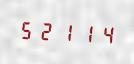five: (18, 17, 36, 42)
four: (94, 21, 112, 46)
one: (56, 19, 74, 44), (75, 20, 93, 45)
two: (37, 18, 55, 43)
